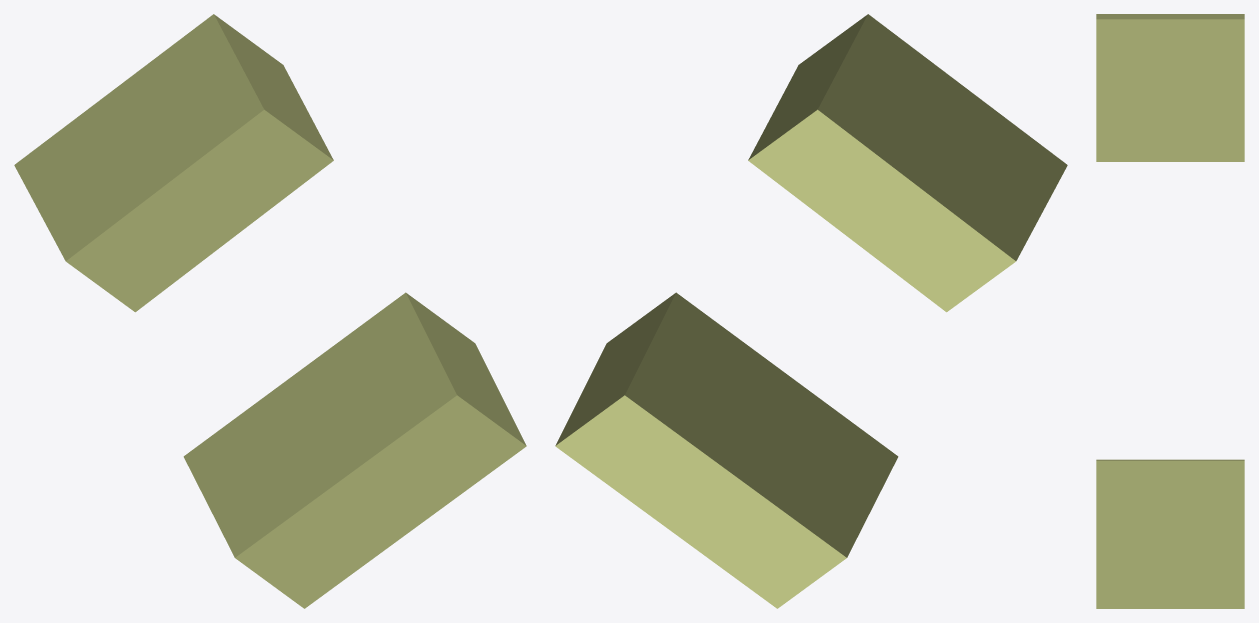
The picture shows the model from 3 angles, left to right: view 1: azimuth 30°, elevation 25°; view 2: azimuth 150°, elevation 25°; view 3: azimuth 270°, elevation 25°; orthographic projection. The views are drawn at different scales.
Visible parts, largest first — view 1: 0_1_0_2_1_3_2_2_3; view 2: 0_1_0_2_1_3_2_2_3; view 3: 0_1_0_2_1_3_2_2_3.
Part boxes in pixels (x1,y1,x2,y2): 0_1_0_2_1_3_2_2_3: (14,14,526,608); 0_1_0_2_1_3_2_2_3: (555,14,1067,608); 0_1_0_2_1_3_2_2_3: (1096,14,1244,608).
Size of the model in its own units: 22.04 by 26.1 by 6.
